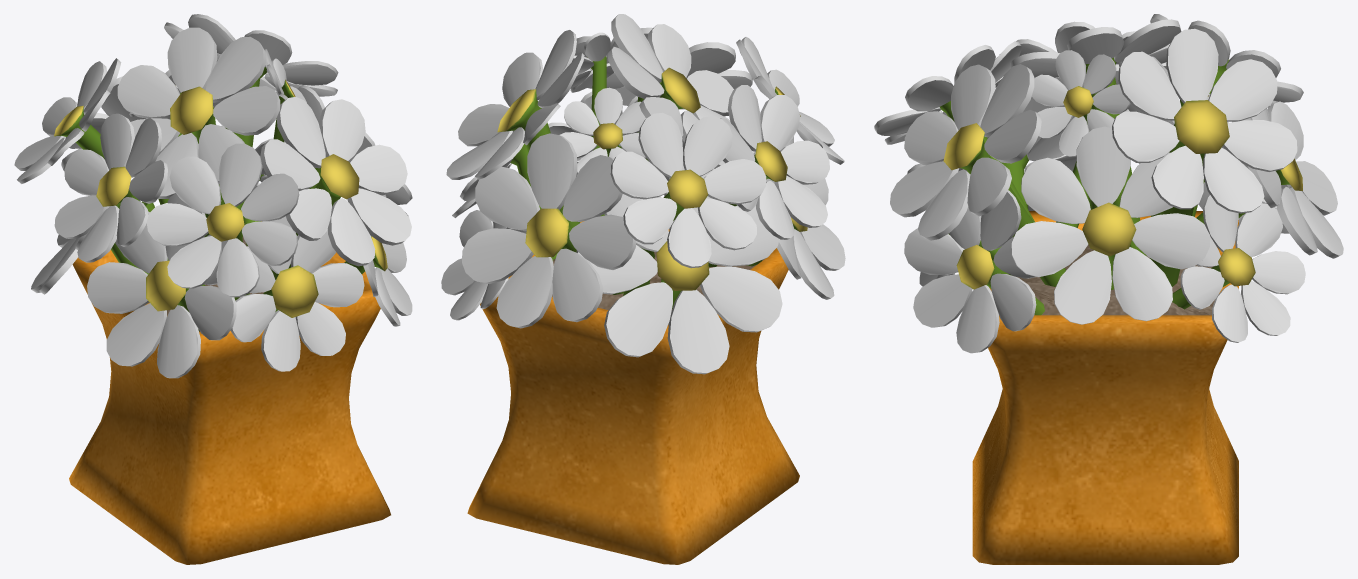
File: FloorPlant_5_D.glb
3 renders of one model, left to right at view 1: azimuth 30°, elevation 25°; view 2: azimuth 150°, elevation 25°; view 3: azimuth 270°, elevation 25°, orthographic. The views are drawn at different scales.
Visible parts, largest first — view 1: 5_Pot_low.002, 5_Petals3_low.007, 5_Petals1_low.012, 5_Petals3_low.008, 5_Petals2_low.002, 5_Petals1_low.010, 5_Petals1_low.009, 5_Petals1_low.011, 5_Petals4_low.006, 5_Petals1_low.008, 5_Stem5_low.018, 5_Stem5_low.024 (+9 smaller); view 2: 5_Pot_low.002, 5_Petals3_low.006, 5_Petals3_low.005, 5_Petals1_low.011, 5_Petals1_low.010, 5_Petals4_low.006, 5_Petals3_low.008, 5_Petals1_low.014, 5_Petals2_low.002, 5_Petals4_low.004, 5_Petals1_low.012, 5_Petals3_low.007 (+11 smaller); view 3: 5_Pot_low.002, 5_Petals4_low.005, 5_Petals4_low.006, 5_Petals3_low.007, 5_Petals1_low.008, 5_Petals4_low.004, 5_Petals3_low.006, 5_Petals1_low.013, 5_Petals3_low.008, 5_Petals1_low.012, 5_Stem5_low.027, 5_Stem5_low.028 (+9 smaller).
Boxes of the visible parts, left/top/right/bottom form: 5_Pot_low.002: left=69, top=221, right=390, bottom=564; 5_Petals3_low.007: left=260, top=96, right=411, bottom=266; 5_Petals1_low.012: left=146, top=143, right=299, bottom=297; 5_Petals3_low.008: left=117, top=27, right=280, bottom=198; 5_Petals2_low.002: left=87, top=193, right=236, bottom=378; 5_Petals1_low.010: left=54, top=113, right=167, bottom=262; 5_Petals1_low.009: left=230, top=216, right=364, bottom=371; 5_Petals1_low.011: left=14, top=58, right=121, bottom=183; 5_Petals4_low.006: left=164, top=14, right=338, bottom=96; 5_Petals1_low.008: left=363, top=194, right=412, bottom=326; 5_Stem5_low.018: left=263, top=265, right=318, bottom=317; 5_Stem5_low.024: left=170, top=86, right=224, bottom=237; 5_Pot_low.002: left=467, top=221, right=799, bottom=564; 5_Petals3_low.006: left=462, top=133, right=636, bottom=328; 5_Petals3_low.005: left=576, top=162, right=782, bottom=374; 5_Petals1_low.011: left=610, top=112, right=766, bottom=268; 5_Petals1_low.010: left=720, top=85, right=829, bottom=239; 5_Petals4_low.006: left=446, top=30, right=584, bottom=179; 5_Petals3_low.008: left=607, top=14, right=754, bottom=168; 5_Petals1_low.014: left=559, top=87, right=646, bottom=173; 5_Petals2_low.002: left=753, top=136, right=845, bottom=299; 5_Petals4_low.004: left=441, top=210, right=526, bottom=320; 5_Petals1_low.012: left=736, top=37, right=844, bottom=164; 5_Petals3_low.007: left=574, top=27, right=752, bottom=109; 5_Pot_low.002: left=972, top=211, right=1238, bottom=564; 5_Petals4_low.005: left=1011, top=126, right=1209, bottom=324; 5_Petals4_low.006: left=1112, top=28, right=1297, bottom=213; 5_Petals3_low.007: left=890, top=64, right=1041, bottom=240; 5_Petals1_low.008: left=904, top=190, right=1036, bottom=353; 5_Petals4_low.004: left=1180, top=194, right=1305, bottom=342; 5_Petals3_low.006: left=1232, top=101, right=1343, bottom=258; 5_Petals1_low.013: left=1031, top=50, right=1130, bottom=156; 5_Petals3_low.008: left=998, top=19, right=1181, bottom=90; 5_Petals1_low.012: left=874, top=41, right=1021, bottom=144; 5_Stem5_low.027: left=1149, top=100, right=1229, bottom=286; 5_Stem5_low.028: left=1082, top=202, right=1136, bottom=270.
Bounding box in the file's own units: 0.7351 × 0.9815 × 0.8492.
1 material, 1 textured.
